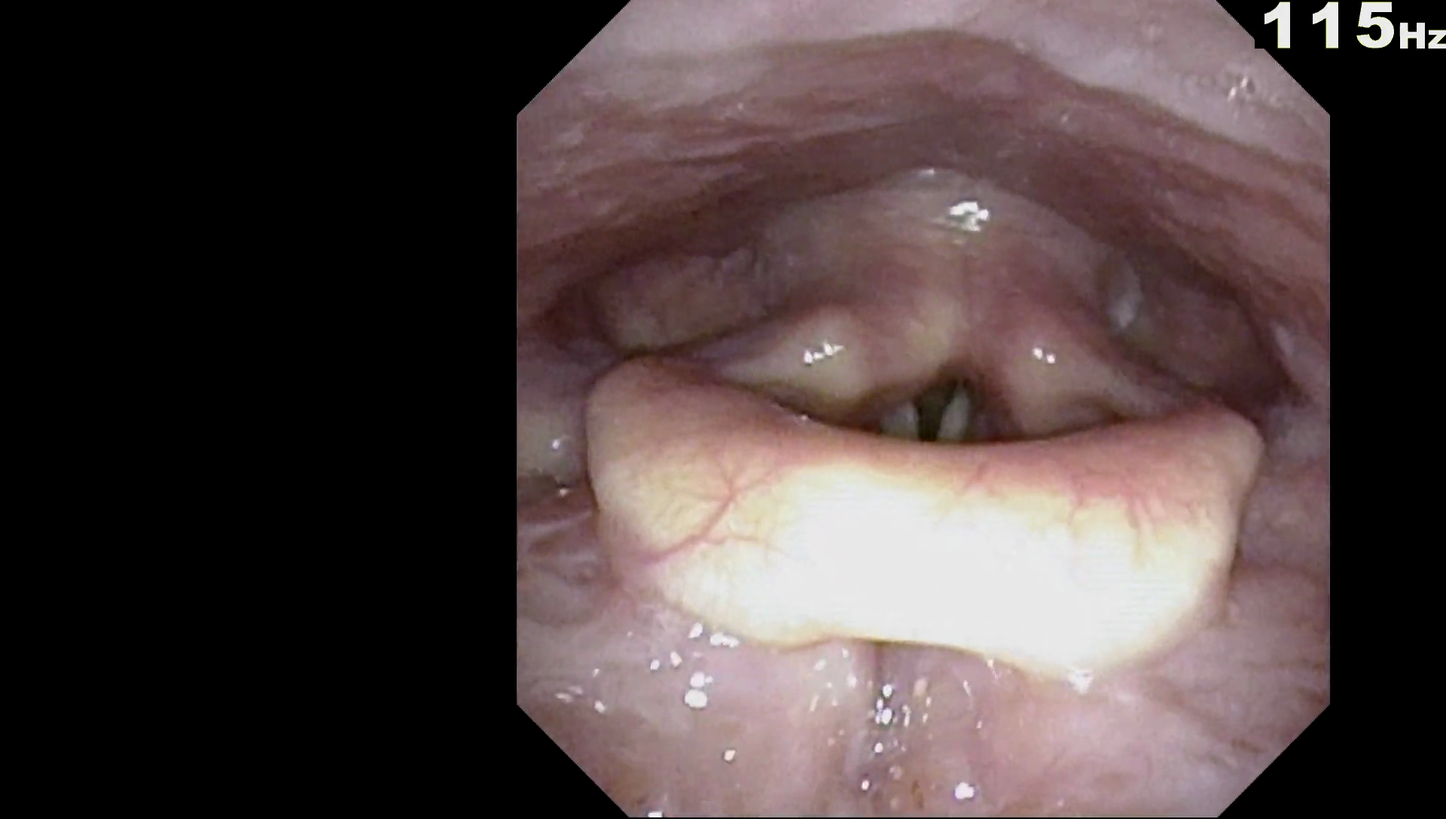trachea: (870, 364, 1004, 476)
